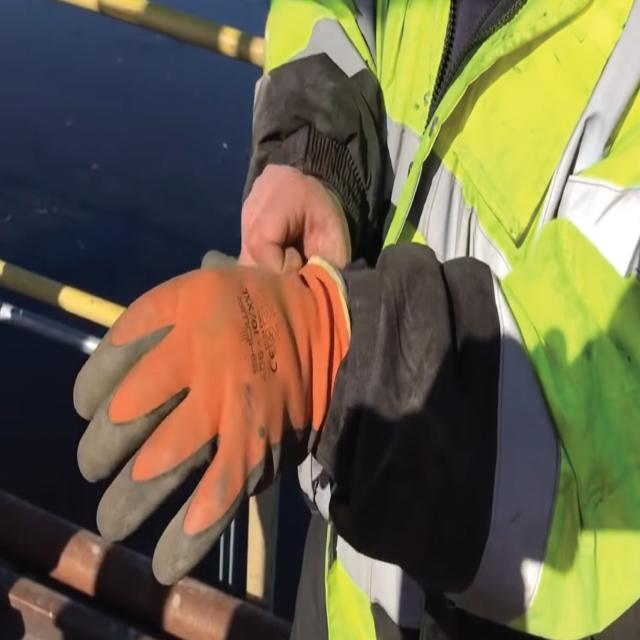gloves: (76, 256, 352, 583)
